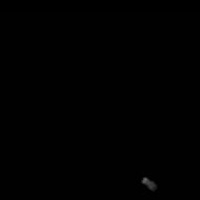chromosome: (141, 177, 156, 190)
